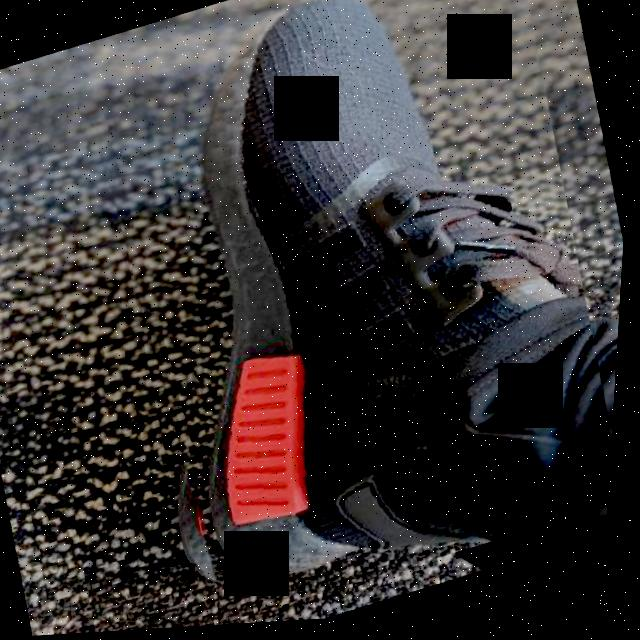shoe: (50, 0, 640, 636)
